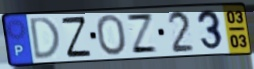2: (167, 9, 196, 54)
3: (196, 7, 226, 53)
D: (29, 15, 62, 62)
O: (94, 13, 128, 57)
Z: (124, 13, 160, 55), (60, 15, 94, 59)
